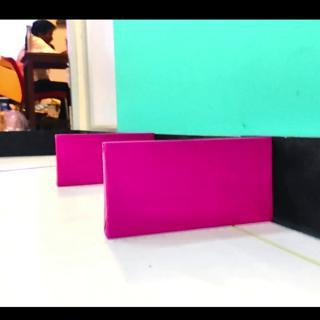xparking: (105, 143, 270, 239), (57, 135, 102, 186)
